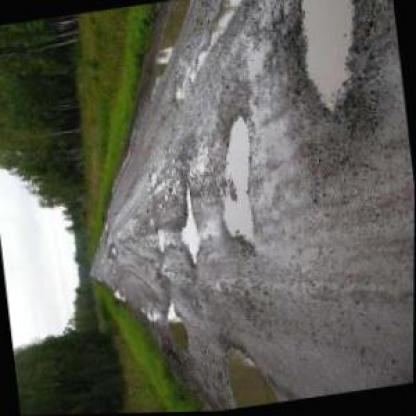pothole: (205, 112, 265, 261), (218, 338, 276, 410), (172, 182, 204, 268), (158, 296, 194, 354), (152, 226, 168, 255), (111, 287, 126, 302)
